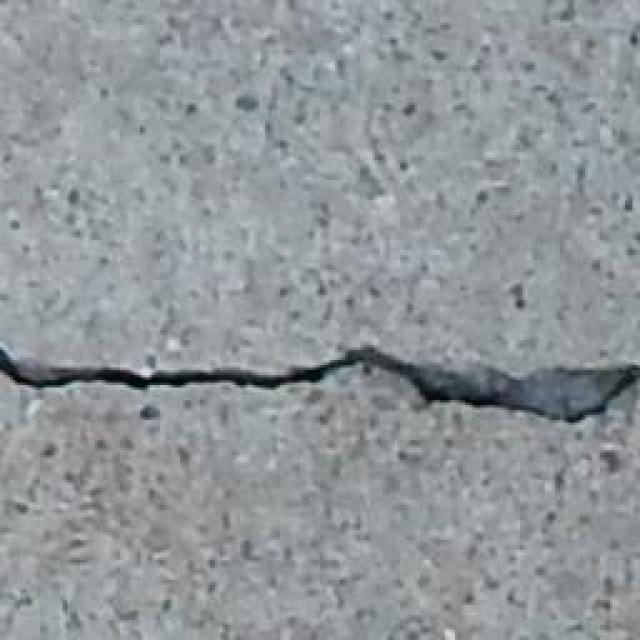concrete-crack: (0, 327, 640, 431)
